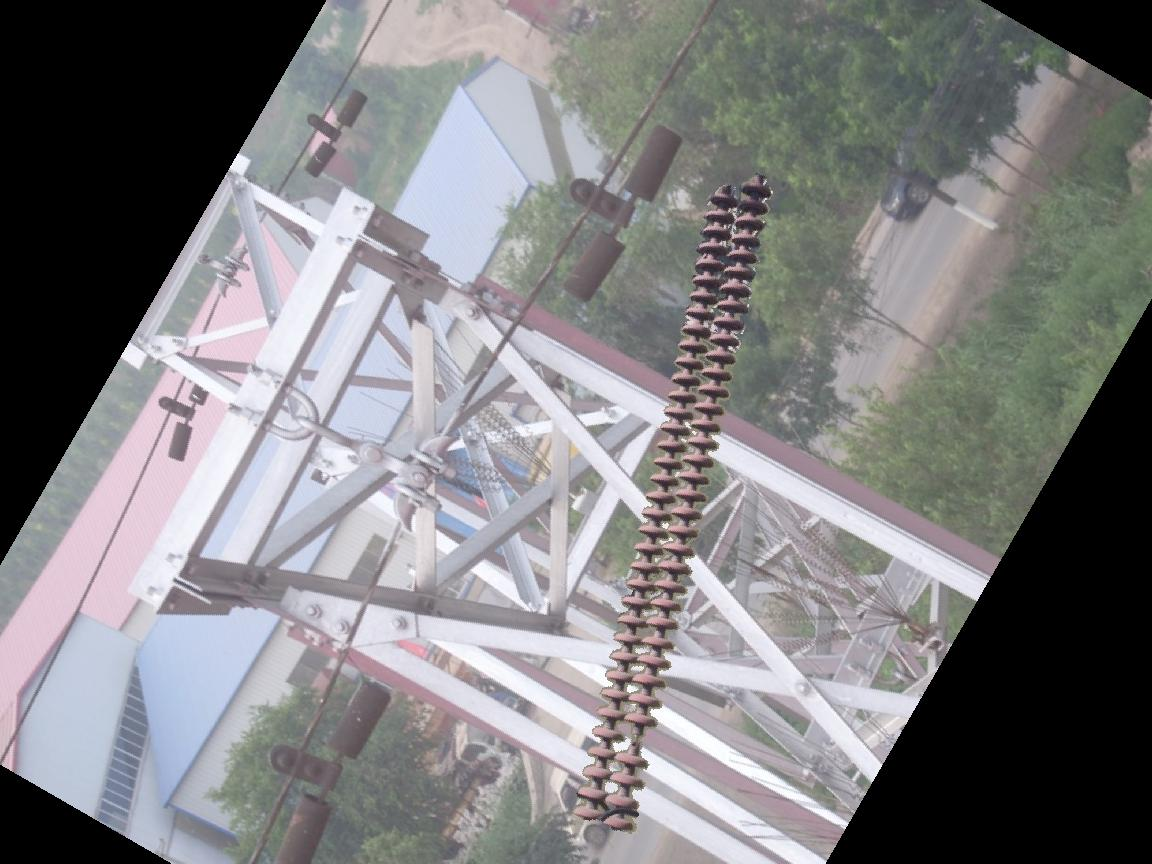insulator: (572, 171, 778, 840)
insulator_stringdrop: (611, 709, 661, 773)
